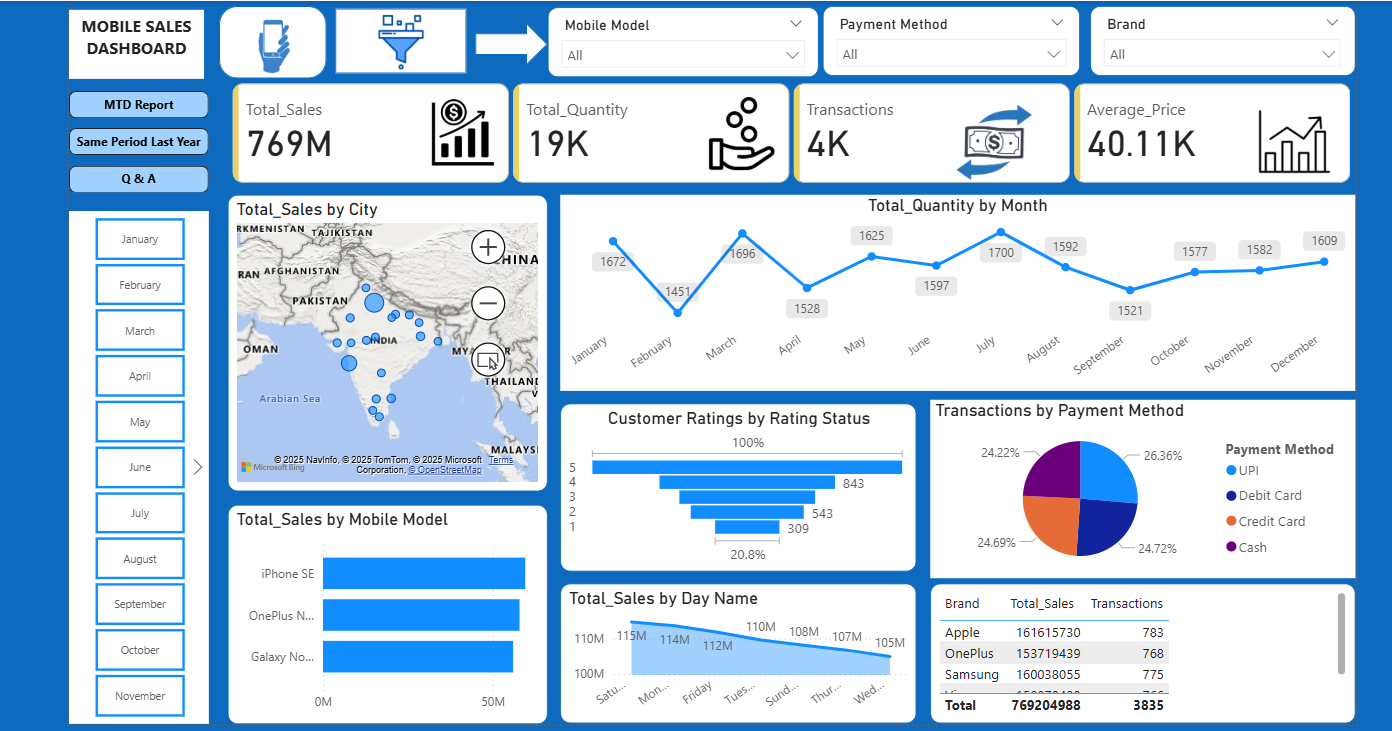

Layout of this report page (visuals, bound fields, positions):
{"tool":"powerbi","page":{"name":"Dashboard","canvas":[1280,720],"ordinal":0},"visuals":[{"type":"shape","box":[149.3,5,107,72.1],"z":1000},{"type":"image","box":[139.3,0,128.1,99.5],"z":2000},{"type":"slicer","fields":{"Values":["Custom_Calendar.Date.Variation.Date Hierarchy.Month"]},"box":[0,209,139.3,510],"z":3000},{"type":"cardVisual","fields":{"Data":["Sales_Data.Total_Sales","Sales_Data.Total_Quantity","Sales_Data.Transactions","Sales_Data.Average_Price"]},"box":[158,77.1,1122.1,109.5],"z":4000},{"type":"slicer","fields":{"Values":["Sales_Data.Mobile Model"]},"box":[476.4,6.2,269.9,69.7],"z":5000},{"type":"slicer","fields":{"Values":["Sales_Data.Payment Method"]},"box":[750.1,5,256.3,69.7],"z":6000},{"type":"slicer","fields":{"Values":["Sales_Data.Brand"]},"box":[1016.3,5,263.7,69.7],"z":7000},{"type":"shape","box":[265,7.5,130.6,64.7],"z":8000},{"type":"image","box":[272.4,8.7,115.7,64.7],"z":10000},{"type":"shape","box":[404.3,21.1,72.1,43.5],"z":11000},{"type":"textbox","box":[0,8.7,134.3,68.4],"z":12000},{"type":"map","fields":{"Category":["Sales_Data.City"],"Size":["Sales_Data.Total_Sales"]},"box":[158,192.8,318.5,294.8],"z":12001},{"type":"lineChart","fields":{"Category":["Custom_Calendar.Date.Variation.Date Hierarchy.Month"],"Y":["Sales_Data.Total_Quantity"]},"box":[488.9,192.8,791.2,195.3],"z":12002},{"type":"funnel","title":"Customer Ratings by Rating Status","fields":{"Y":["CountNonNull(Sales_Data.Customer Age)"],"Category":["Sales_Data.Customer Ratings"]},"box":[489,401.1,354.4,167.6],"z":12003},{"type":"pieChart","fields":{"Category":["Sales_Data.Payment Method"],"Y":["Sales_Data.Transactions"]},"box":[857.1,396.8,422.9,177.9],"z":12004},{"type":"clusteredBarChart","fields":{"Y":["Sales_Data.Total_Sales"],"Category":["Sales_Data.Mobile Model"]},"box":[158,501.4,318.7,218.4],"z":12005},{"type":"areaChart","fields":{"Category":["Custom_Calendar.Day Name"],"Y":["Sales_Data.Total_Sales"]},"box":[488.9,579.7,354.5,139.3],"z":12006},{"type":"tableEx","fields":{"Values":["Sales_Data.Brand","Sales_Data.Total_Sales","Sales_Data.Transactions"]},"box":[857.1,579.7,422.9,139.3],"z":12007},{"type":"pageNavigator","box":[0,89.6,139.3,103.2],"z":12008}]}

Visuals, with their boxes in screenshot pixels (x1, y1, x2, y2):
shape: region(215, 5, 322, 77)
image: region(205, 0, 333, 100)
slicer - Custom_Calendar.Date.Variation.Date Hierarchy.Month: region(65, 210, 205, 721)
cardVisual - Sales_Data.Total_Sales x Sales_Data.Total_Quantity: region(224, 77, 1349, 187)
slicer - Sales_Data.Mobile Model: region(543, 6, 814, 76)
slicer - Sales_Data.Payment Method: region(818, 5, 1075, 75)
slicer - Sales_Data.Brand: region(1085, 5, 1349, 75)
shape: region(331, 8, 462, 72)
image: region(338, 9, 454, 74)
shape: region(471, 21, 543, 65)
textbox: region(65, 9, 200, 77)
map - Sales_Data.City x Sales_Data.Total_Sales: region(224, 193, 543, 489)
lineChart - Custom_Calendar.Date.Variation.Date Hierarchy.Month x Sales_Data.Total_Quantity: region(556, 193, 1349, 389)
"Customer Ratings by Rating Status" funnel: region(556, 402, 911, 570)
pieChart - Sales_Data.Payment Method x Sales_Data.Transactions: region(925, 398, 1349, 576)
clusteredBarChart - Sales_Data.Total_Sales x Sales_Data.Mobile Model: region(224, 503, 543, 722)
areaChart - Custom_Calendar.Day Name x Sales_Data.Total_Sales: region(556, 581, 911, 721)
tableEx - Sales_Data.Brand x Sales_Data.Total_Sales: region(925, 581, 1349, 721)
pageNavigator: region(65, 90, 205, 193)
